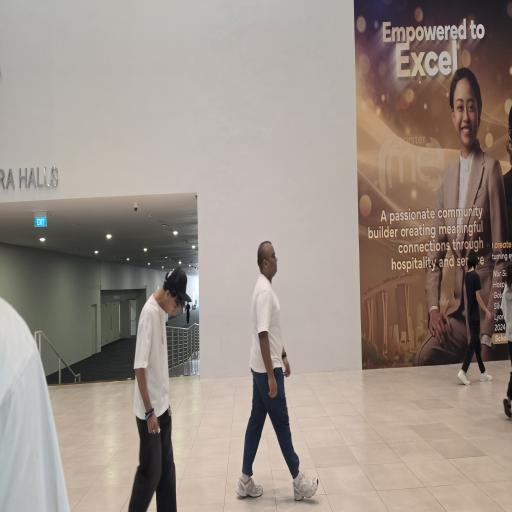person_right: (232, 215, 322, 503), (135, 273, 188, 512), (444, 232, 494, 390)
